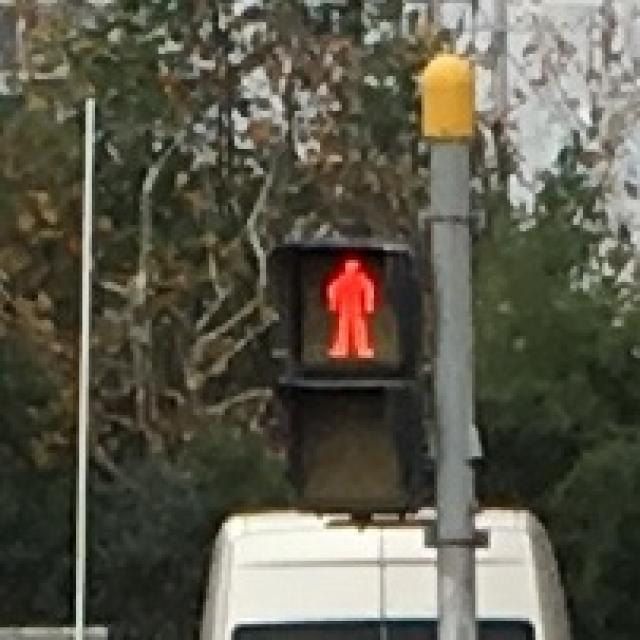red-crossing: (294, 243, 400, 364)
